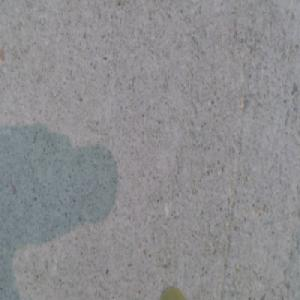Washer: (160, 286, 187, 299)
